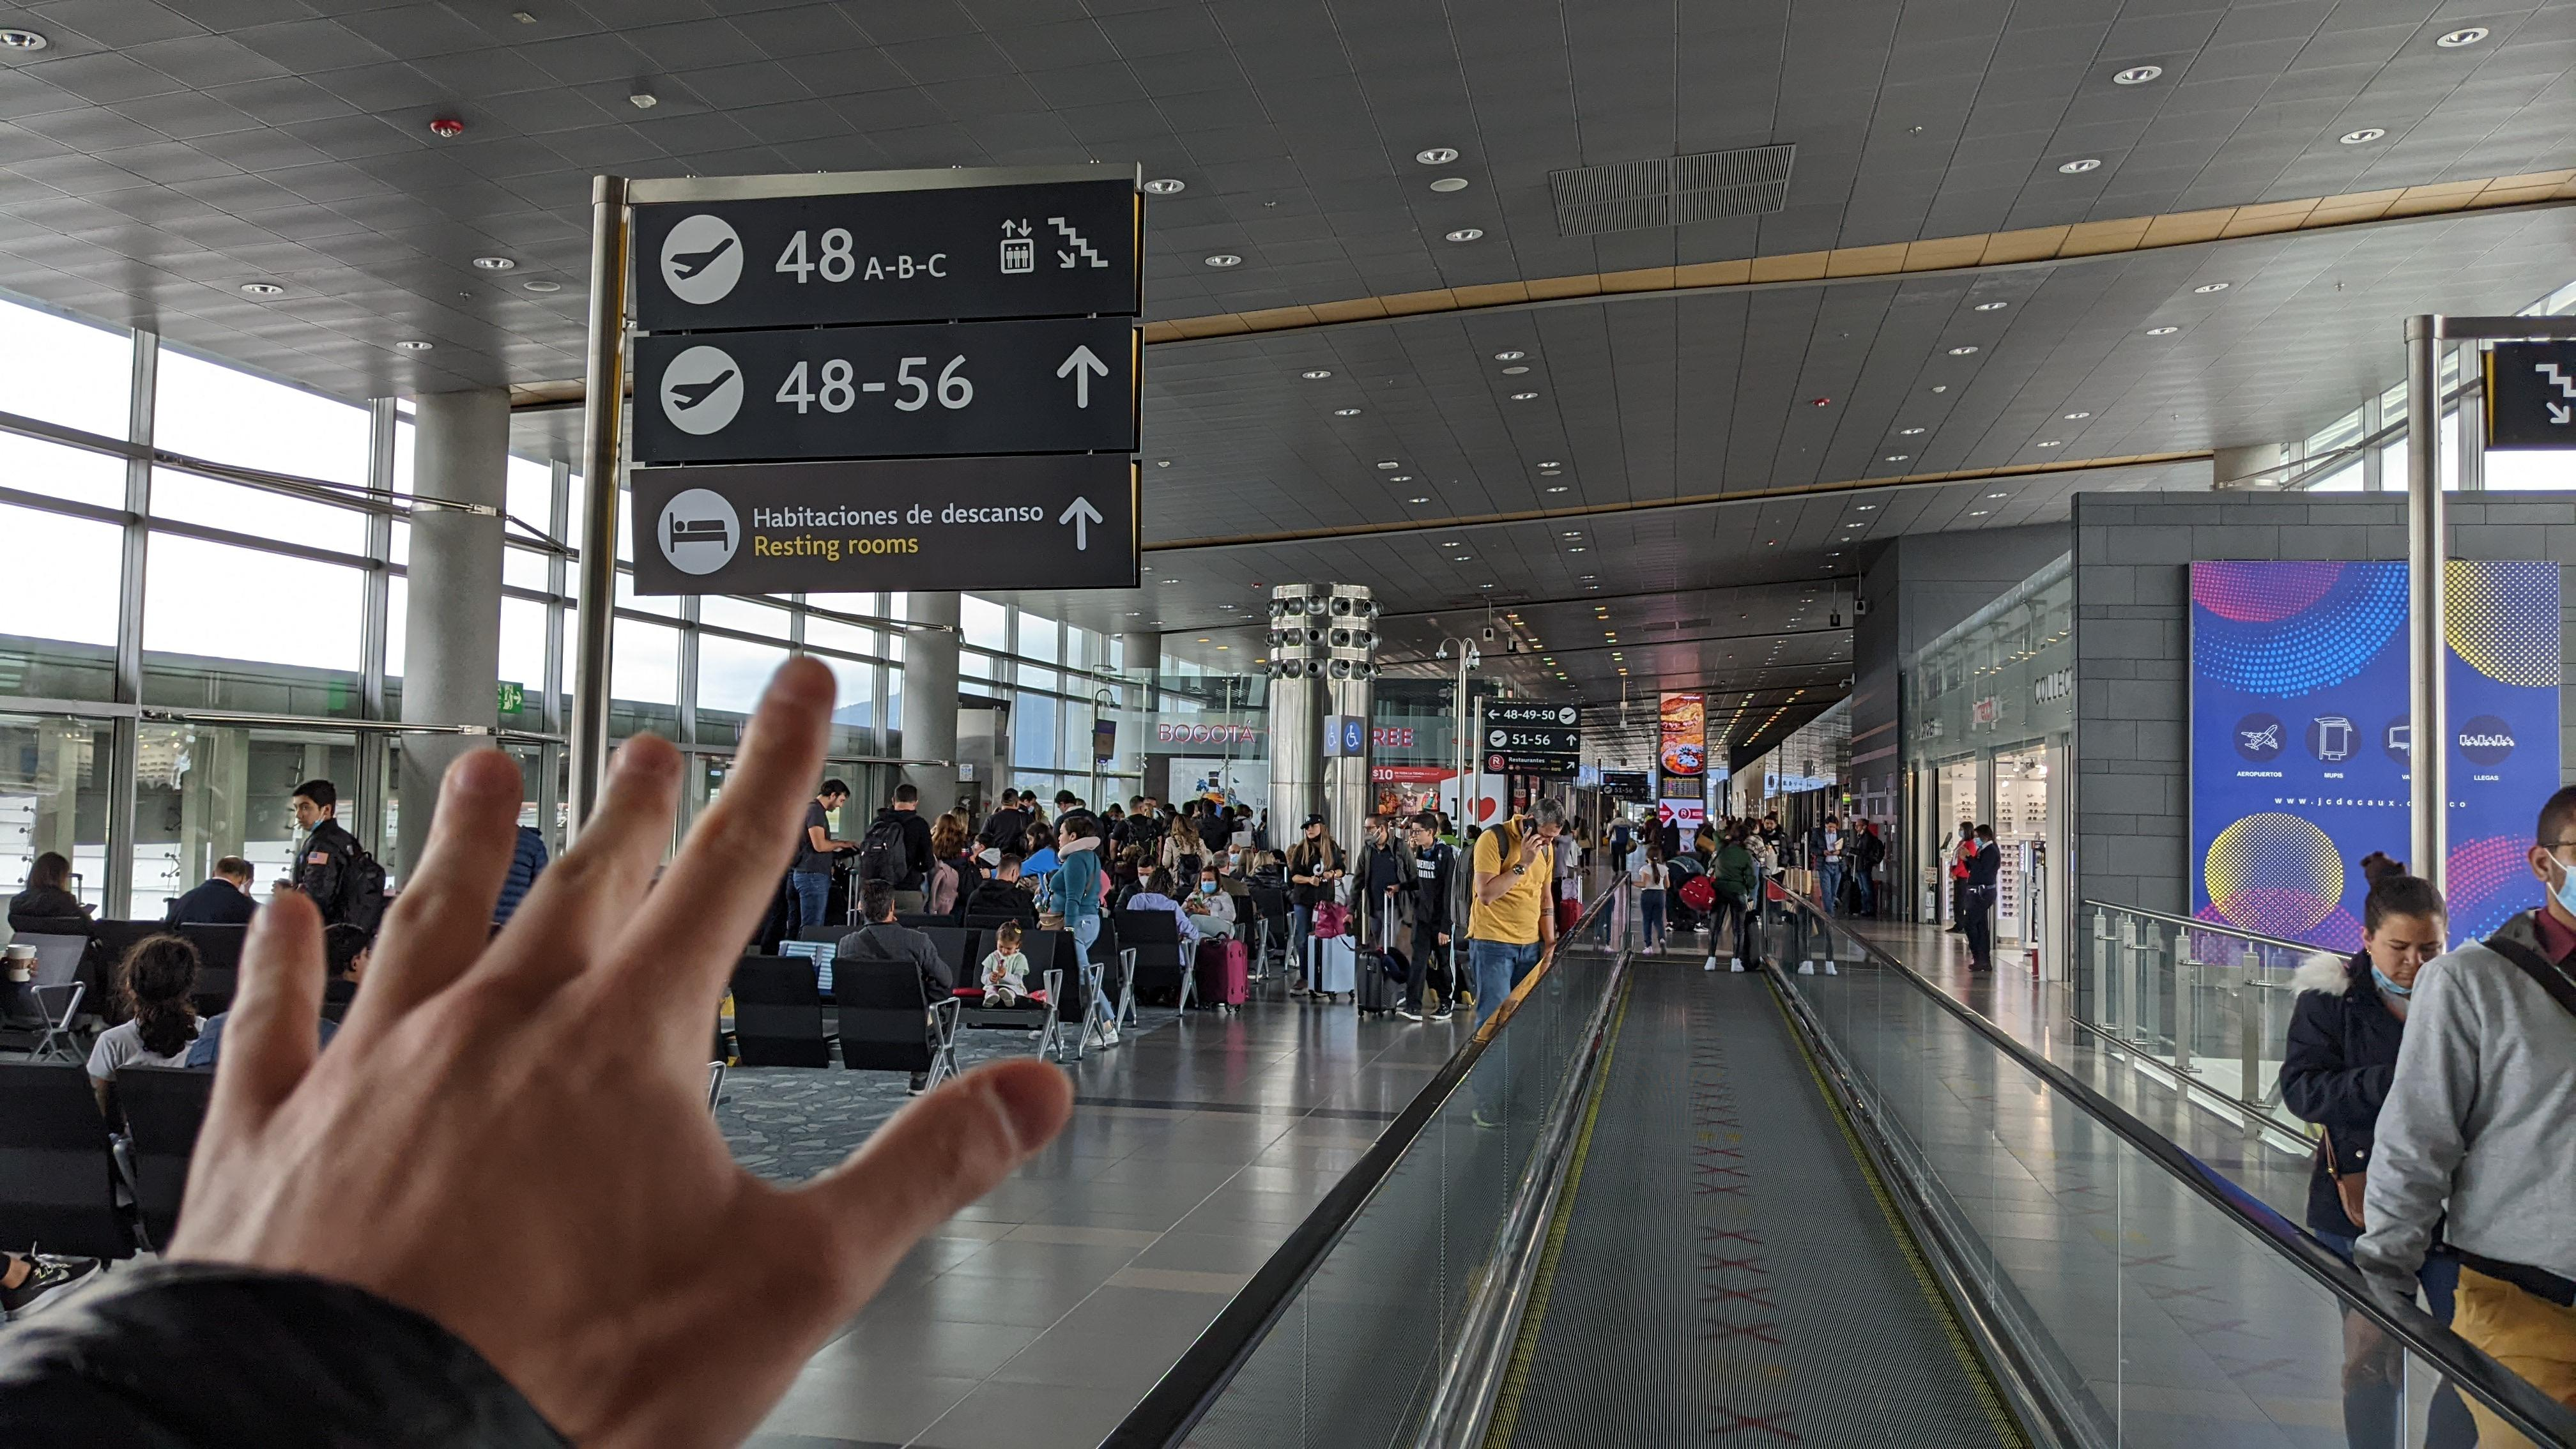airplane symbol: (669, 235, 736, 281), (669, 366, 736, 410), (1491, 734, 1506, 743), (1560, 711, 1575, 720)
down arrow: (1017, 218, 1033, 237)
emergency exit: (502, 683, 515, 709)
emergency right arrow: (513, 690, 524, 704)
handicapped symbol: (1346, 725, 1359, 748), (1327, 725, 1338, 747)
left arrow: (1486, 708, 1500, 720)
up arrow: (1054, 340, 1113, 410), (1058, 494, 1106, 554), (1000, 218, 1017, 239), (1566, 734, 1578, 747)
